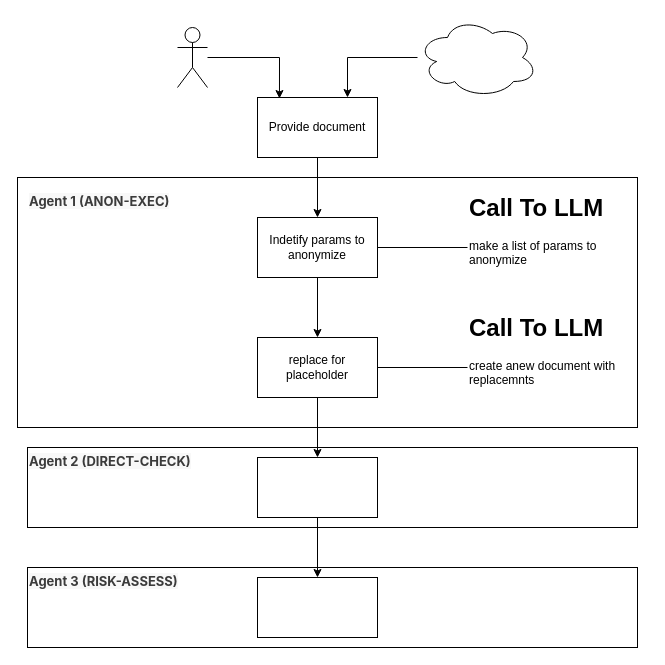
Some shapes in this 665 by 665 pixel diagram are drawn without their labels. The shapes that lost their labels are listed below. From the top down, each one's box as (x1, y1, x2, y2) in pixels, then its label:
(176, 26, 208, 88): Actor
(256, 456, 378, 518): verify anonymization
(256, 576, 378, 638): provide assesment
